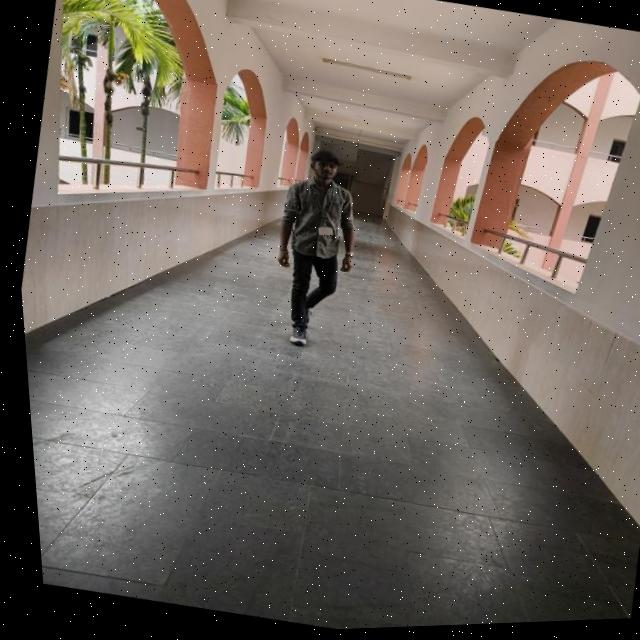id_card: (296, 187, 343, 246)
